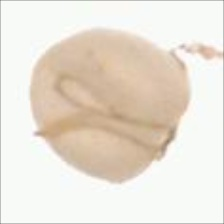L5: (51, 72, 168, 150), (146, 112, 183, 170)
L6: (25, 24, 192, 185)
